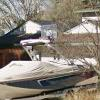Boat: (4, 50, 91, 100)
